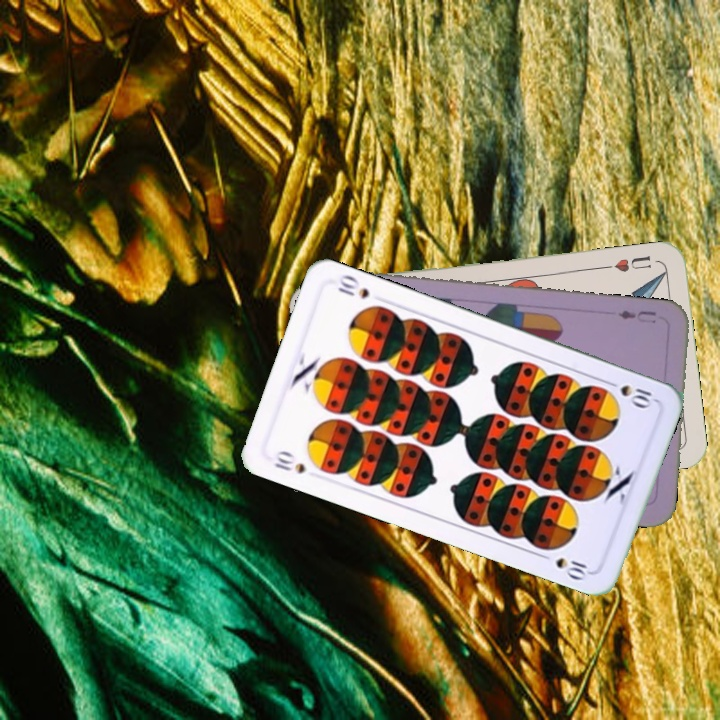EU: (614, 306, 659, 326)
HU: (601, 251, 654, 275)
S10: (601, 376, 658, 410), (270, 446, 308, 477)
